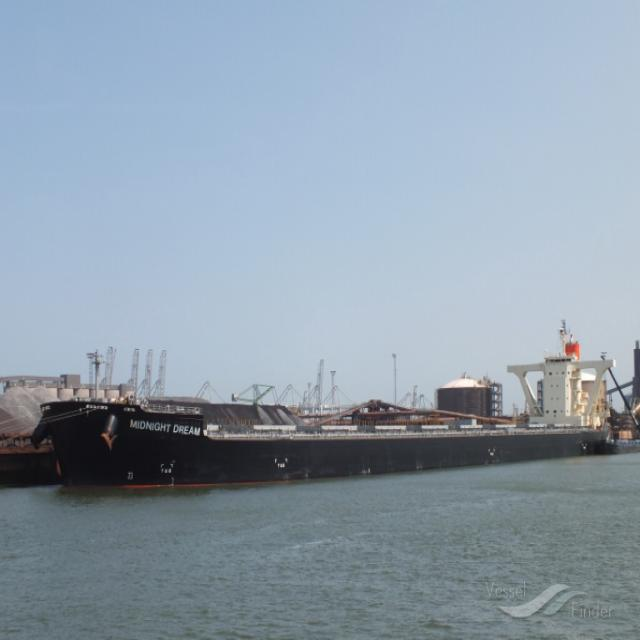OCR: (127, 414, 207, 436)
